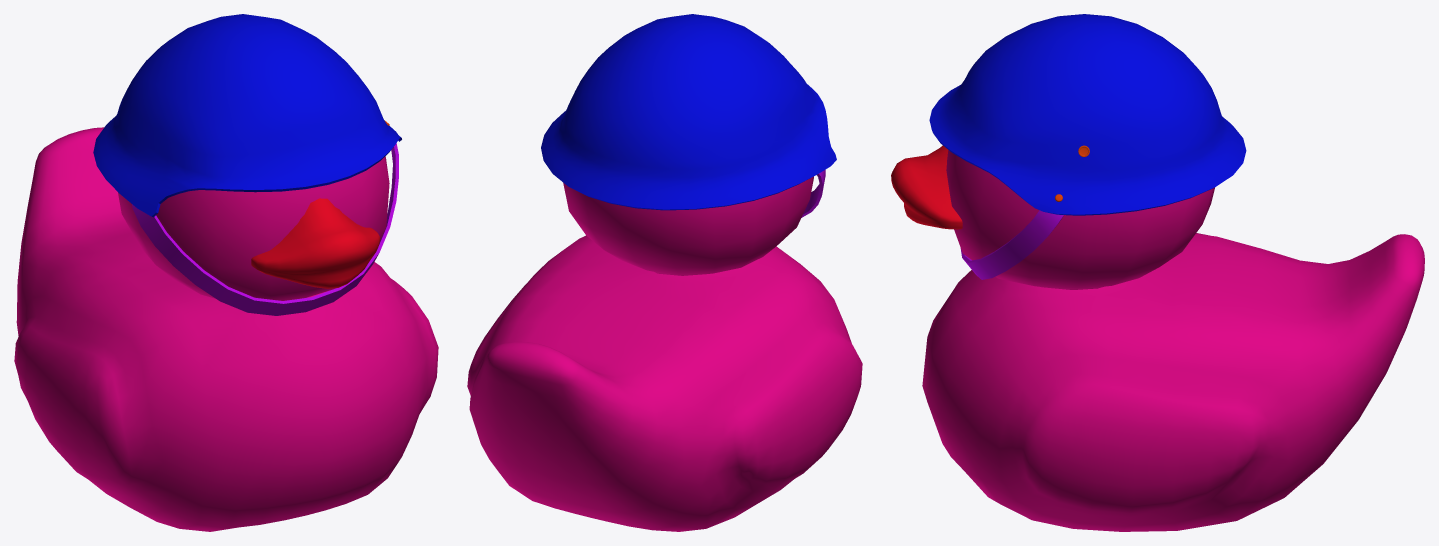
The model's file is Rubber Duck.fbx.
The picture shows the model from 3 angles, left to right: view 1: azimuth 30°, elevation 25°; view 2: azimuth 150°, elevation 25°; view 3: azimuth 270°, elevation 25°; orthographic projection. The views are drawn at different scales.
Visible parts, largest first — view 1: duck.001; view 2: duck.001; view 3: duck.001.
Boxes of the visible parts, bbox=[...] form: duck.001: bbox=[14, 14, 438, 531]; duck.001: bbox=[467, 14, 862, 531]; duck.001: bbox=[891, 14, 1424, 531].
Size of the model in its own units: 1.17 by 1.56 by 1.61.
